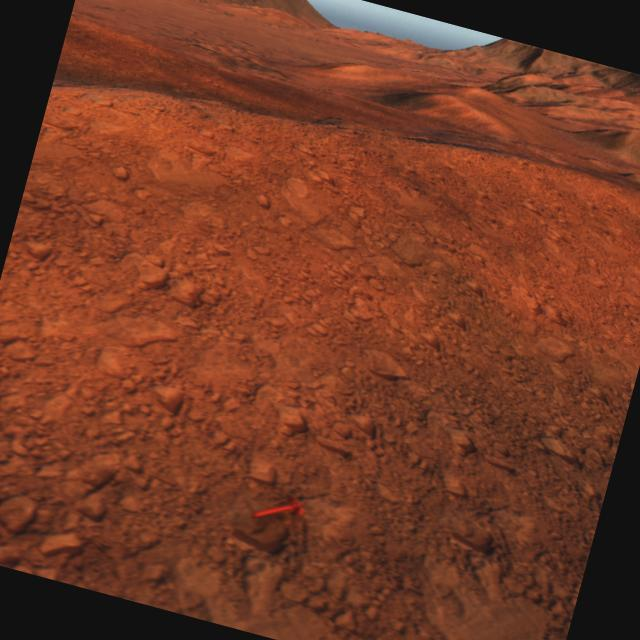newhammer: (250, 487, 306, 530)
